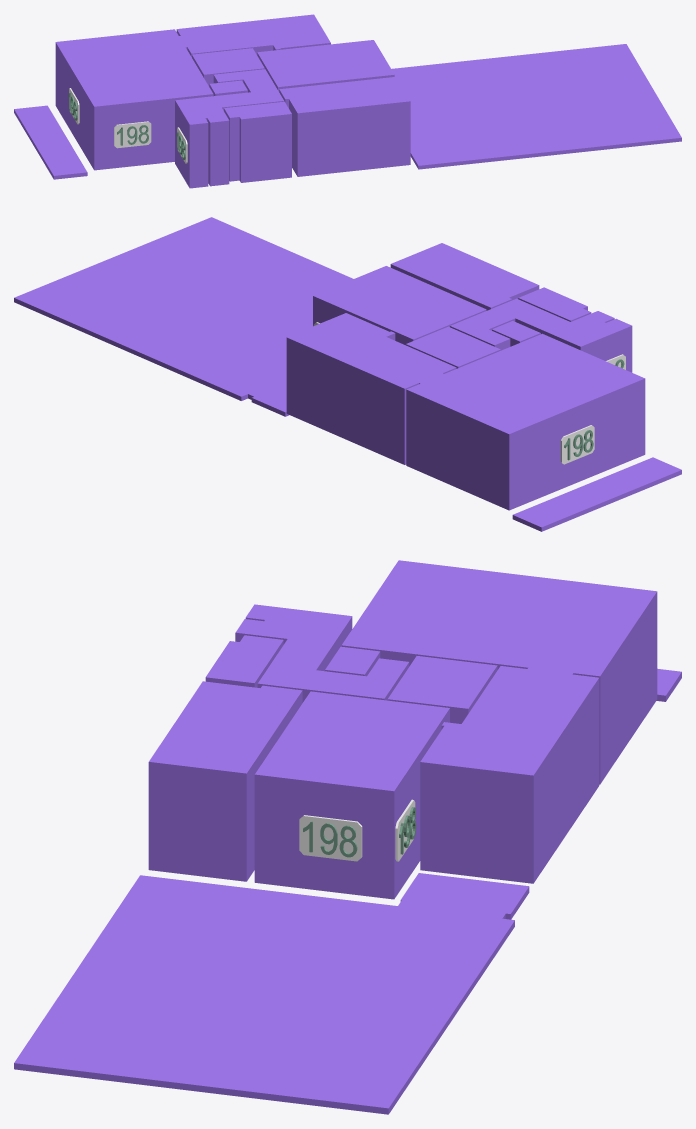
The picture shows the model from 3 angles, top to bottom: view 1: azimuth 30°, elevation 25°; view 2: azimuth 150°, elevation 25°; view 3: azimuth 270°, elevation 25°; orthographic projection. The views are drawn at different scales.
Visible parts, largest first — view 1: g_9, g_1, g_7, g_4, g_5, g_6, g_0, g_8, g_2, g_29, g_3; view 2: g_9, g_1, g_0, g_6, g_4, g_7, g_8, g_2, g_5, g_21, g_3; view 3: g_9, g_1, g_0, g_6, g_7, g_4, g_2, g_5, g_25, g_3.
Boxes of the visible parts, box(x1,y1,x2,y2) form: g_9: box(391, 44, 681, 169); g_1: box(55, 29, 213, 170); g_7: box(279, 77, 410, 176); g_4: box(175, 69, 284, 188); g_5: box(224, 101, 291, 182); g_6: box(257, 40, 394, 91); g_0: box(176, 14, 330, 57); g_8: box(14, 105, 87, 179); g_2: box(192, 48, 264, 86); g_29: box(114, 121, 151, 148); g_3: box(209, 80, 247, 95); g_9: box(14, 217, 353, 416); g_1: box(406, 333, 645, 510); g_0: box(286, 313, 456, 464); g_6: box(313, 266, 486, 345); g_4: box(450, 298, 632, 372); g_7: box(390, 243, 539, 310); g_8: box(512, 457, 681, 531); g_2: box(406, 326, 500, 368); g_5: box(518, 287, 591, 321); g_21: box(560, 425, 594, 464); g_3: box(492, 321, 540, 346); g_9: box(14, 873, 529, 1114); g_1: box(341, 560, 657, 784); g_0: box(420, 666, 599, 883); g_6: box(254, 691, 449, 899); g_7: box(148, 681, 302, 881); g_4: box(235, 604, 409, 702); g_2: box(387, 656, 497, 723); g_5: box(205, 635, 283, 687); g_25: box(299, 815, 362, 861); g_3: box(325, 646, 380, 676).
Size of the model in its own units: 23.91 by 2.74 by 14.4.
